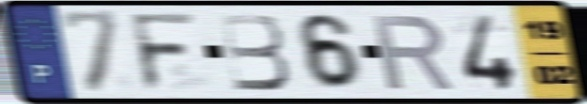4: (459, 11, 519, 93)
6: (293, 12, 366, 93)
7: (58, 8, 124, 96)
B: (217, 11, 295, 93)
F: (127, 10, 202, 93)
R: (368, 12, 457, 92)
